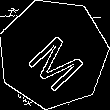M_NE: (19, 20, 88, 88)
